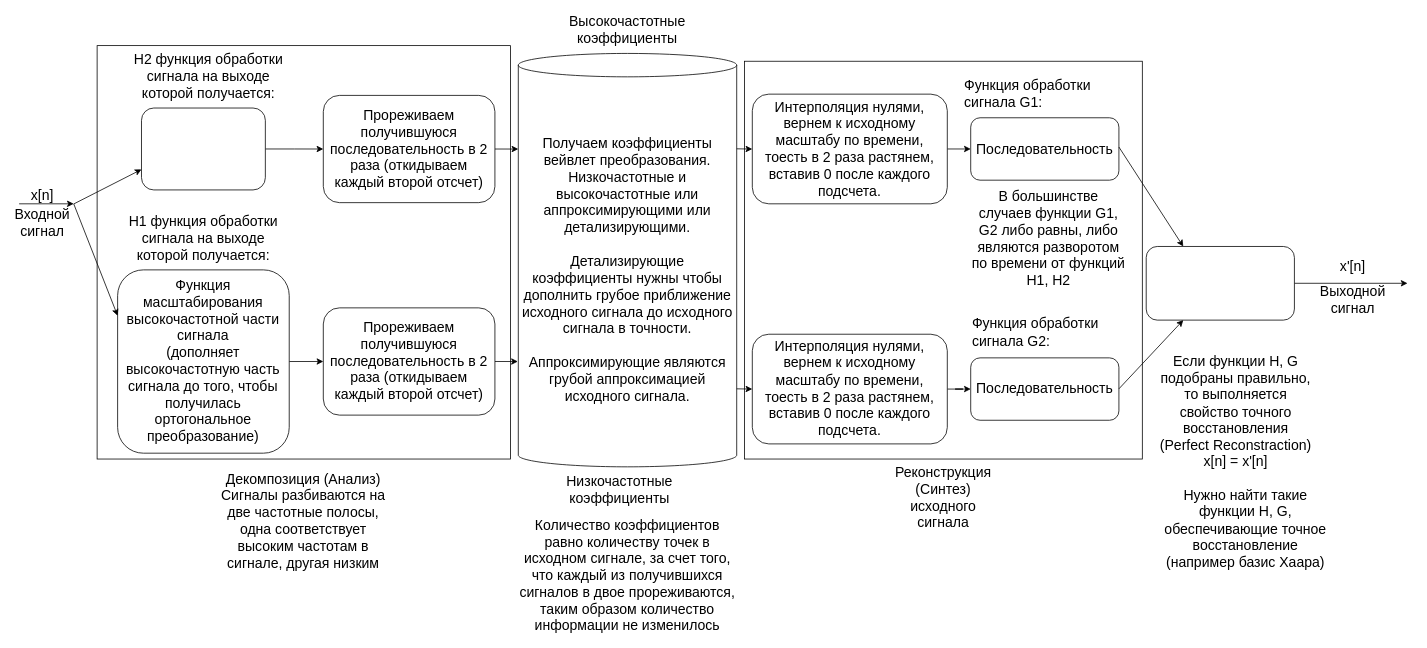
The diagram is 1427 pixels wide and 648 high, and some of its shapes have lost their labels. The box of each missing label's shape, as (x1, y1, x2, y2) in pixels:
Высокочастотная часть сигнала (Полуразности): (141, 107, 265, 190)
Складываются последовательности после функций G1, G2: (1145, 246, 1294, 320)
